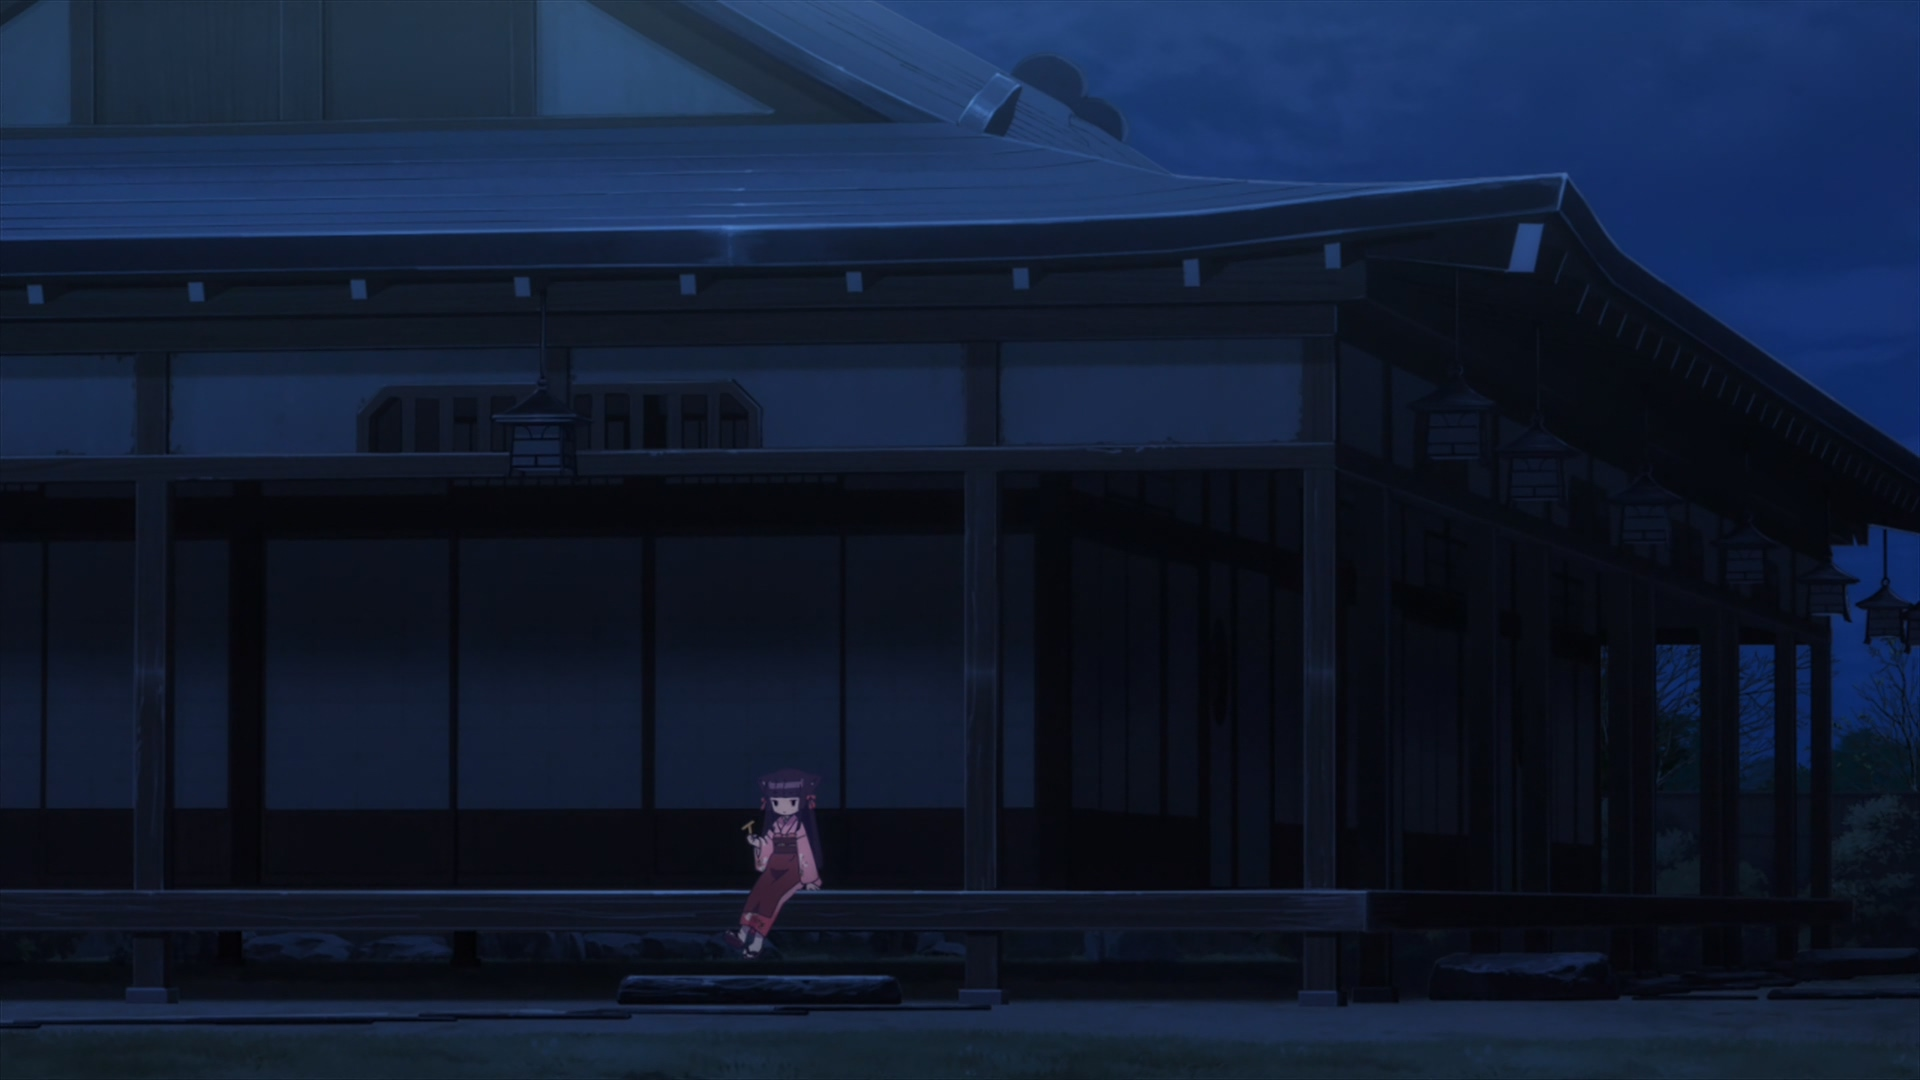樱: (723, 767, 822, 963)
